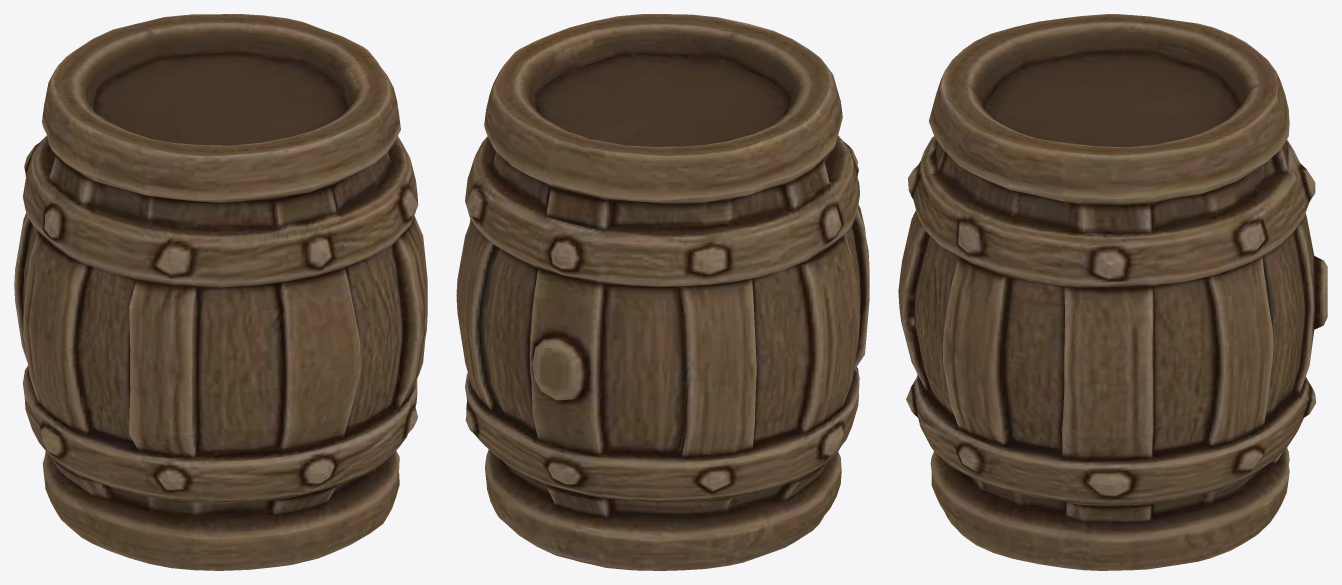
Rendered from barrel_rustic.glb.
3 renders of one model, left to right at view 1: azimuth 30°, elevation 25°; view 2: azimuth 150°, elevation 25°; view 3: azimuth 270°, elevation 25°, orthographic.
Size of the model in its own units: 1.74 by 1.91 by 1.77.
1 material, 1 textured.
